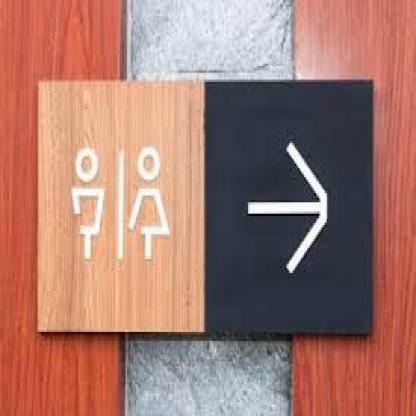toilet: (71, 144, 170, 270)
